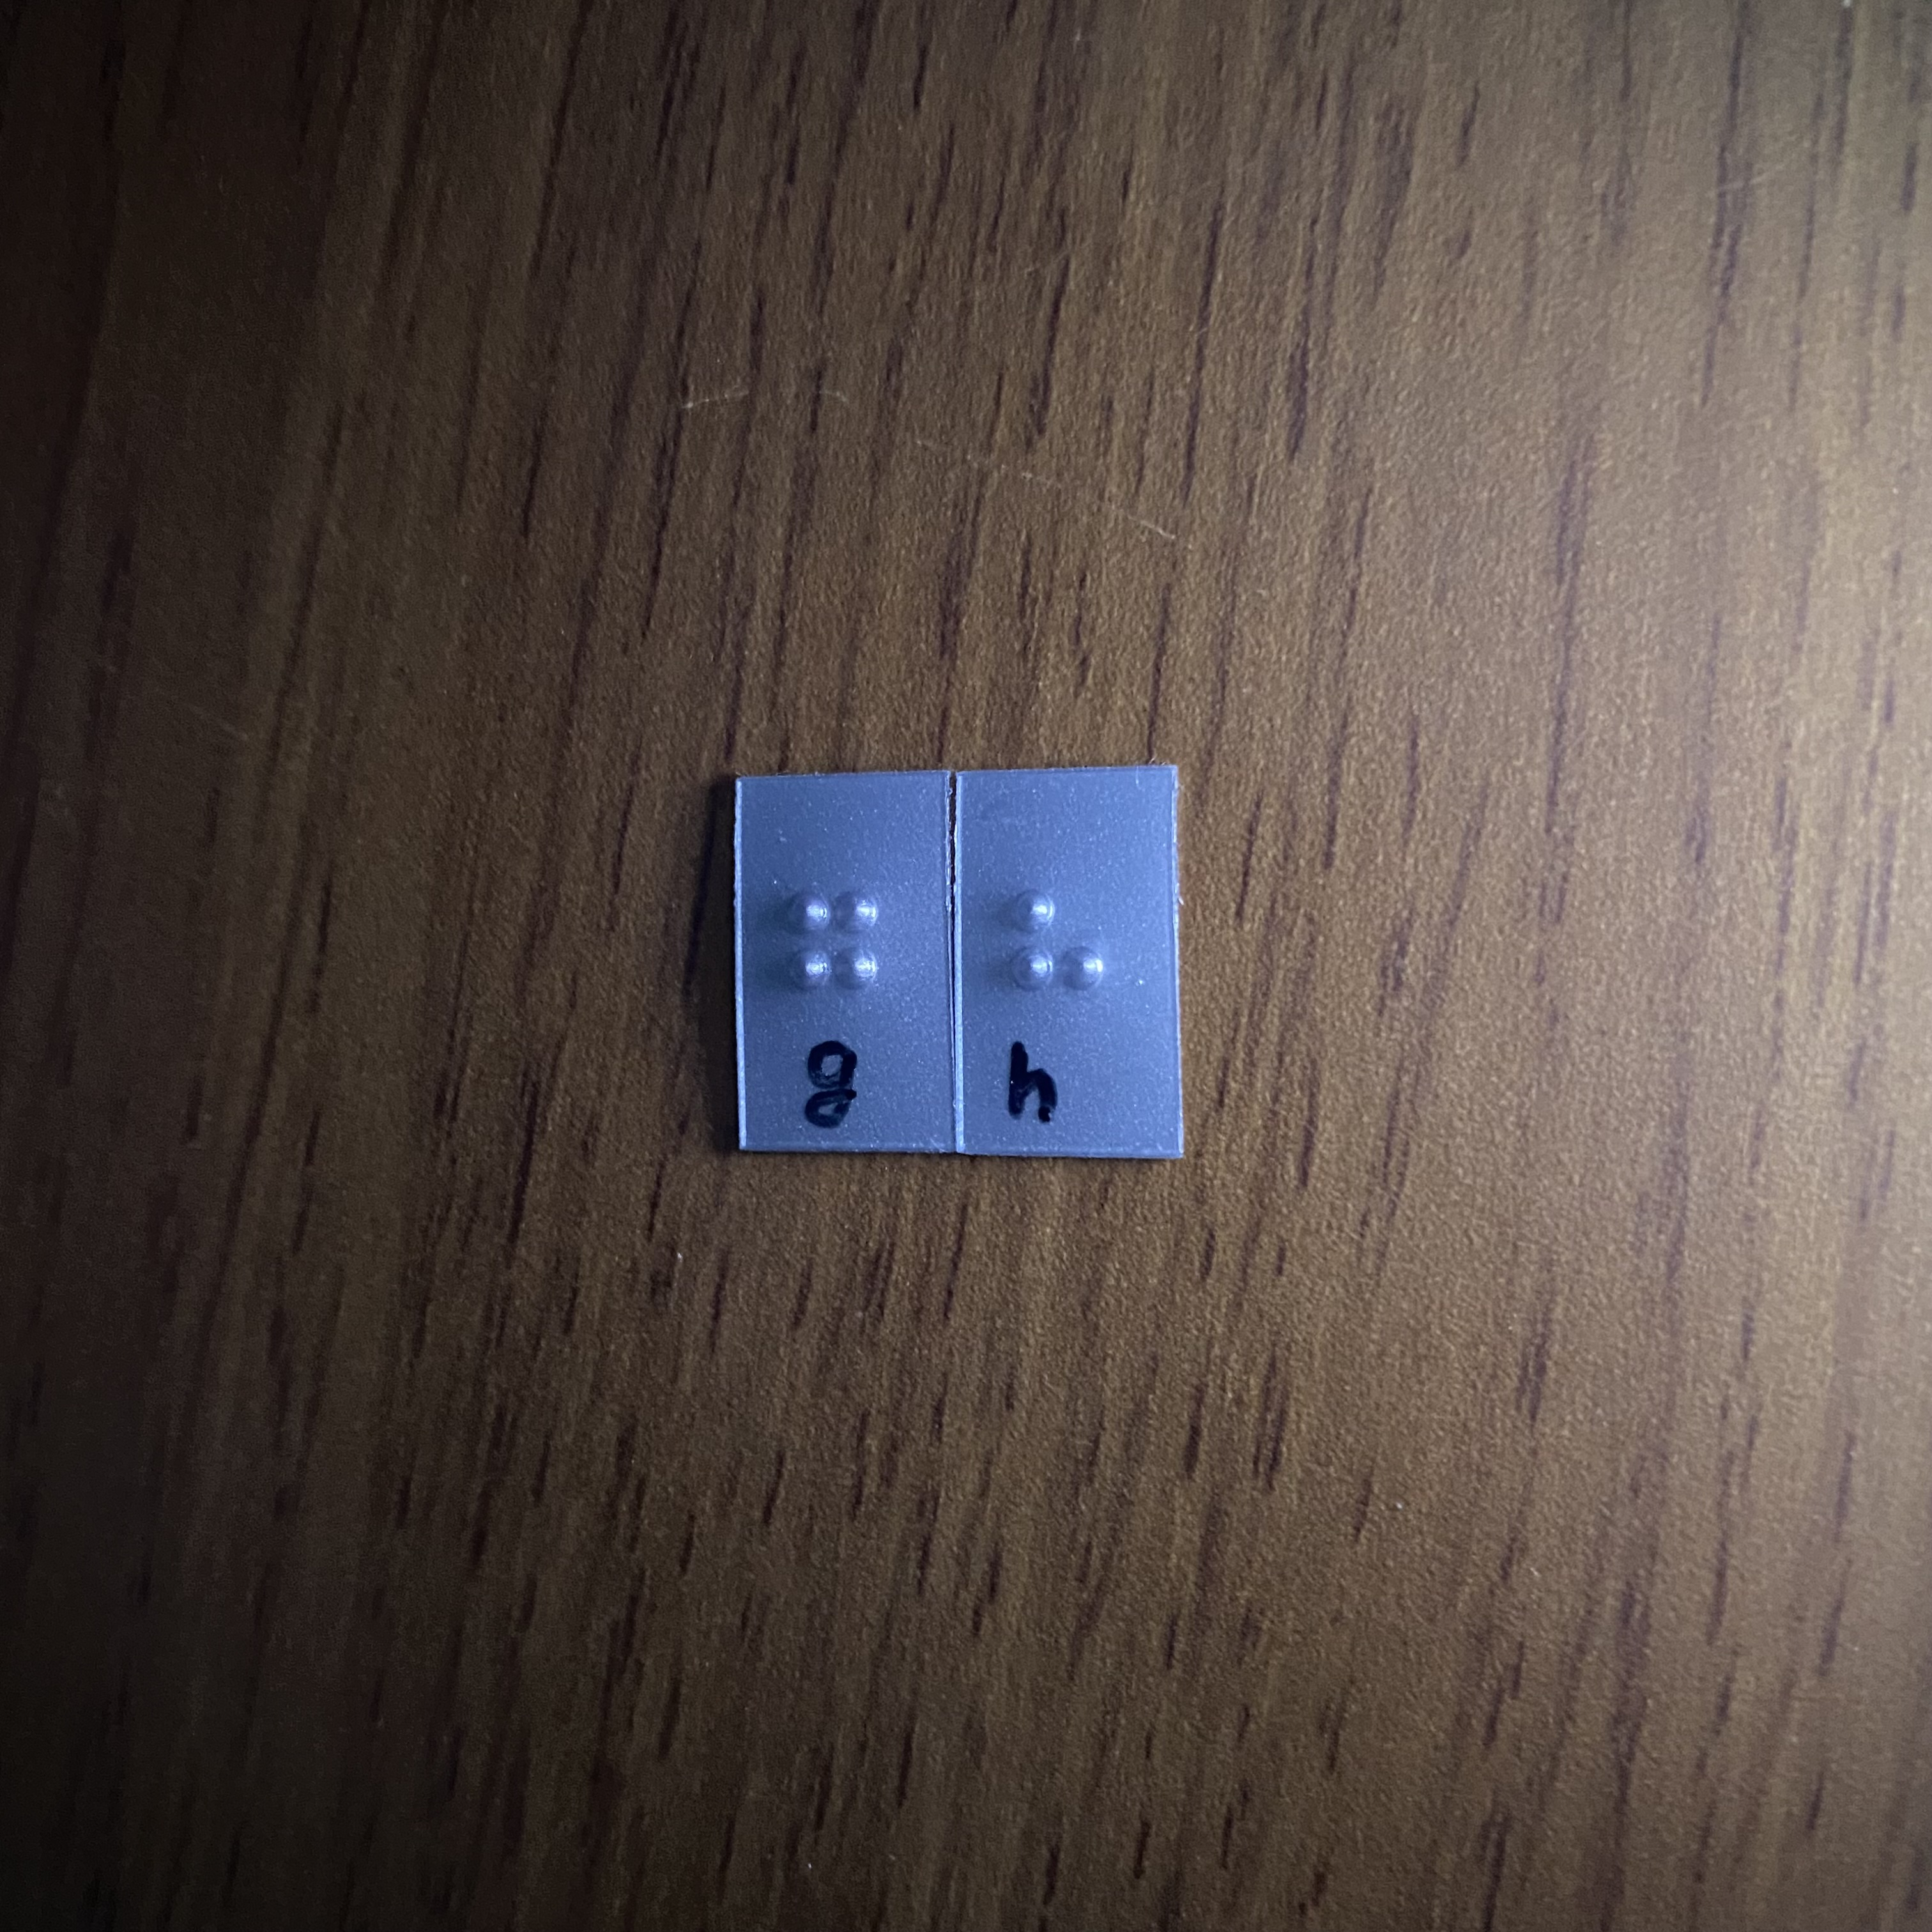g: (758, 877, 884, 1055)
h: (990, 872, 1117, 1053)
